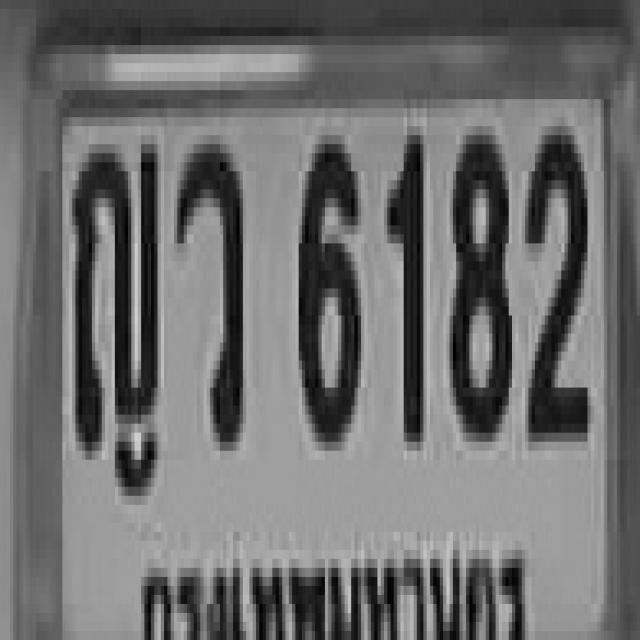1: (384, 126, 420, 442)
2: (523, 117, 586, 433)
22YorYing: (70, 135, 156, 451)
46WorWaen: (174, 135, 240, 442)
6: (295, 135, 358, 433)
8: (446, 126, 509, 433)
